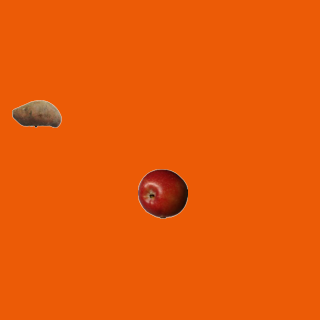Apple Braeburn: (137, 168, 187, 218)
Potato Sweet: (11, 88, 61, 138)
